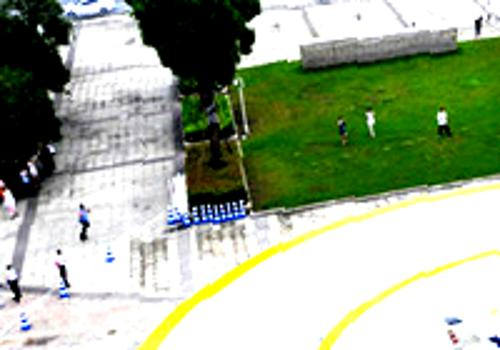Apron: (310, 239, 500, 350)
